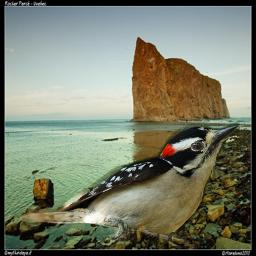Woodpecker: (19, 118, 240, 244)
